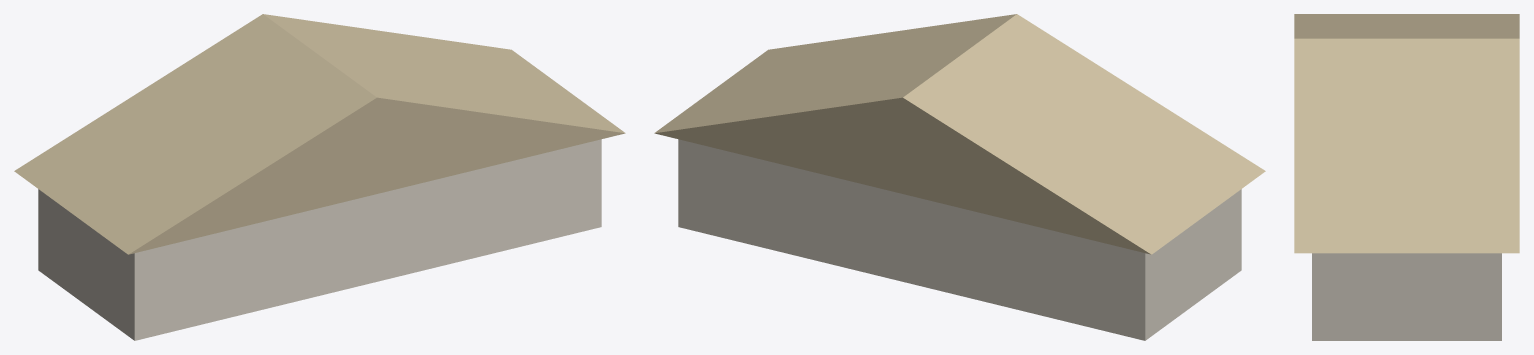
File: longhouse.glb
3 views of the same model, side by side, from view 1: azimuth 30°, elevation 25°; view 2: azimuth 150°, elevation 25°; view 3: azimuth 270°, elevation 25° (orthographic).
Parts seen in each view (by area): view 1: longhouse; view 2: longhouse; view 3: longhouse.
Part boxes in pixels (x1,y1,x2,y2): longhouse: [14, 14, 625, 340]; longhouse: [654, 14, 1265, 340]; longhouse: [1294, 14, 1519, 340].
Size of the model in its own units: 16 by 5.93 by 6.36.
